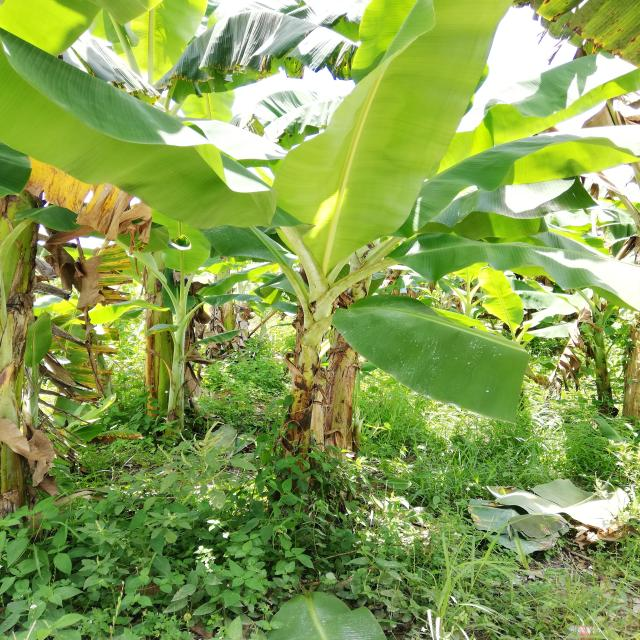Banana-plant: (274, 273, 371, 512), (0, 180, 46, 523)
